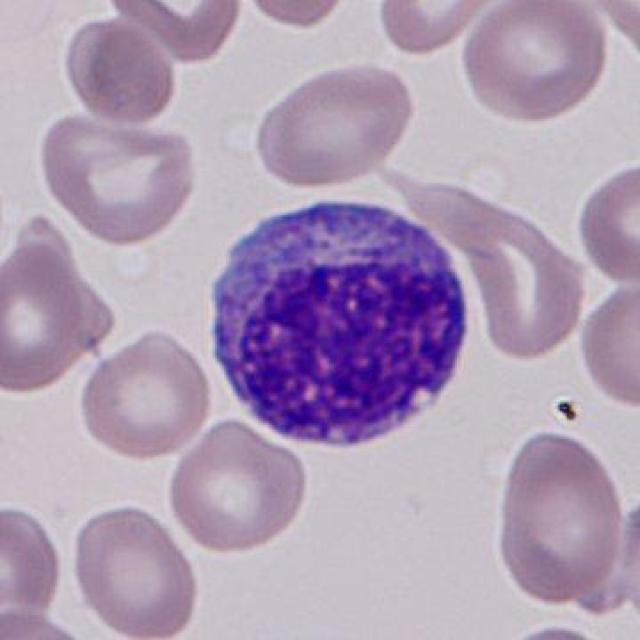RBC: (491, 425, 631, 608), (34, 110, 202, 247), (249, 59, 419, 190), (162, 416, 313, 556), (459, 0, 613, 128), (469, 202, 588, 364), (67, 499, 202, 640), (77, 326, 215, 462), (0, 224, 100, 398), (57, 14, 179, 128), (94, 0, 247, 66), (574, 274, 640, 414), (571, 156, 638, 288), (0, 500, 64, 634), (372, 0, 498, 57), (611, 481, 640, 634), (581, 0, 640, 75), (238, 0, 354, 34), (0, 608, 89, 640), (483, 619, 628, 638)
